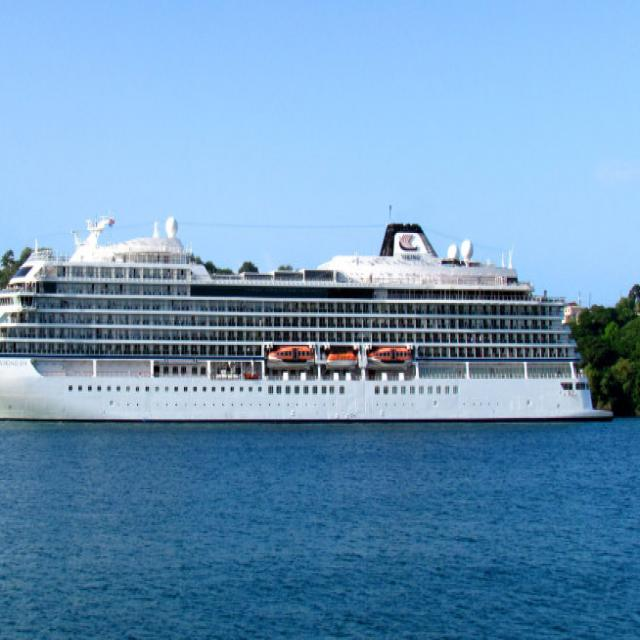cruises: (1, 207, 618, 431)
